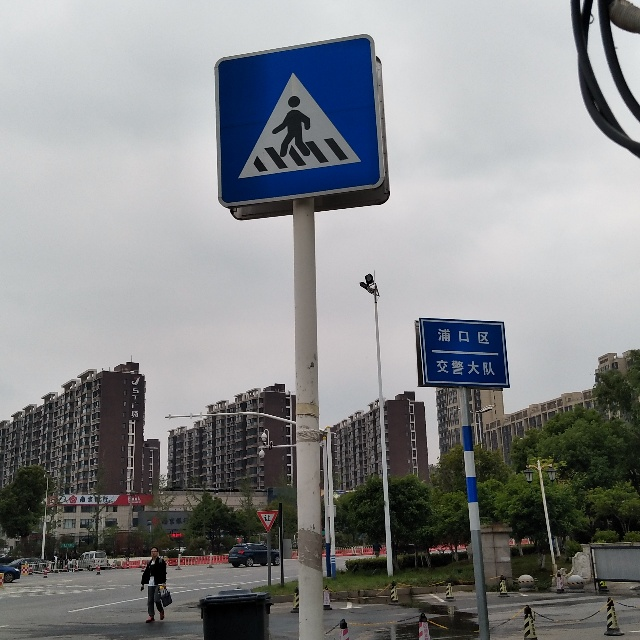crosswalk: (224, 62, 363, 190)
